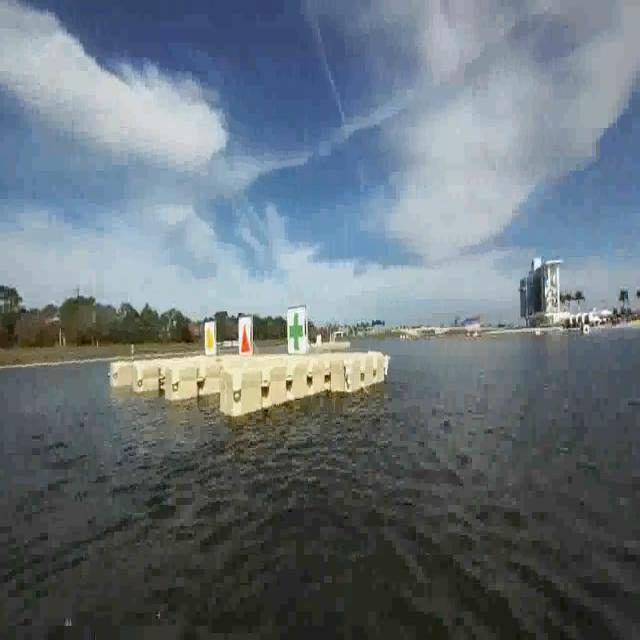blue-cross: (288, 308, 308, 358)
red-dot: (237, 318, 253, 356)
yellow-duck: (204, 318, 216, 356)
